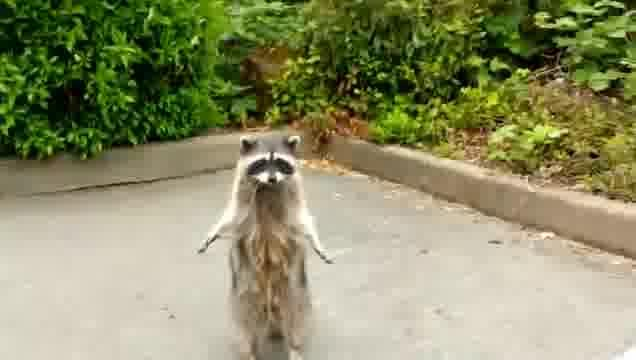raccoon: (197, 128, 335, 360)
